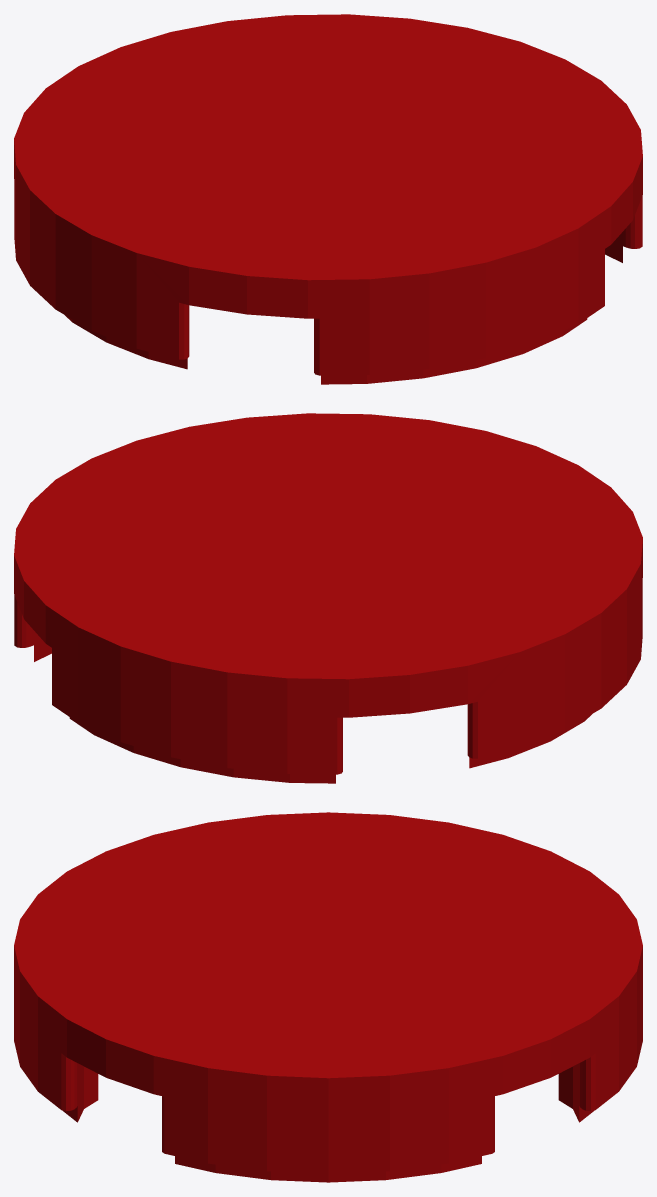
File: 4150 flat tile round 2x2.dae
3 views of the same model, one above another, from view 1: azimuth 30°, elevation 25°; view 2: azimuth 150°, elevation 25°; view 3: azimuth 270°, elevation 25° (orthographic).
Visible parts, largest first — view 1: Part_4150.1; view 2: Part_4150.1; view 3: Part_4150.1.
Part boxes in pixels (left/top/right/bottom): Part_4150.1: left=14, top=14, right=642, bottom=384; Part_4150.1: left=14, top=413, right=642, bottom=783; Part_4150.1: left=14, top=812, right=642, bottom=1182.
Bounding box in the file's own units: 16 × 3.16 × 16.
